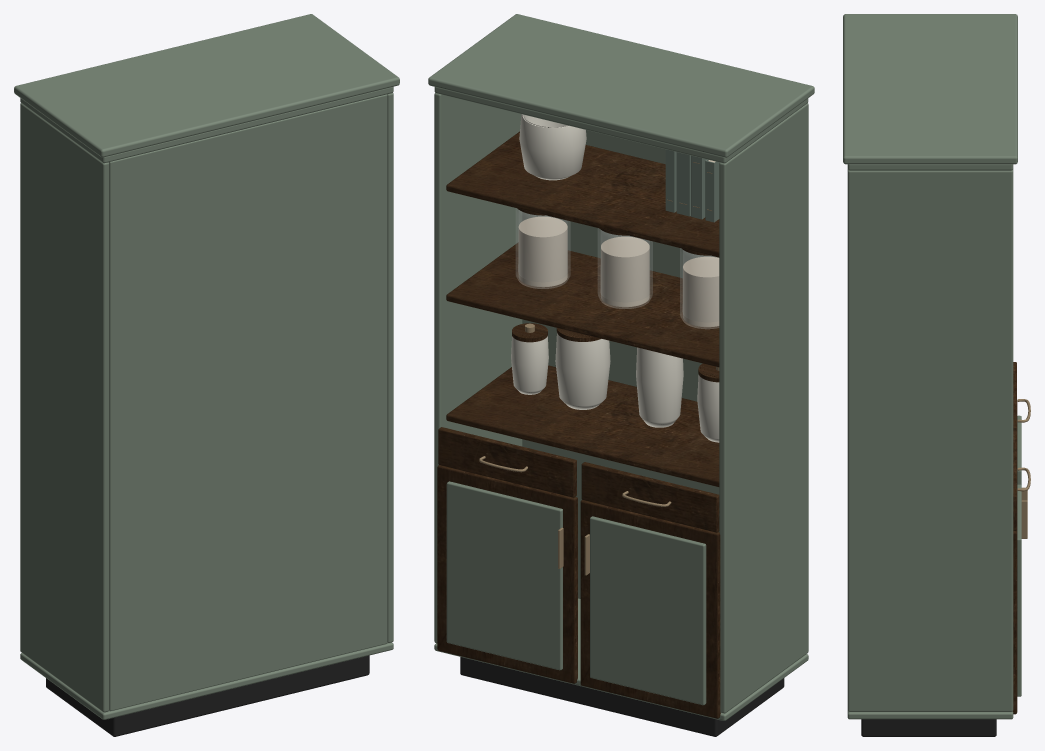
Rendered from crafted-pantry.glb.
3 views of the same model, side by side, from view 1: azimuth 30°, elevation 25°; view 2: azimuth 150°, elevation 25°; view 3: azimuth 270°, elevation 25° (orthographic).
Parts seen in each view (by area): view 1: dark_surfaces; view 2: dark_surfaces, walnut_surfaces, glass_surfaces, binding_surfaces, bronze_surfaces; view 3: dark_surfaces, walnut_surfaces, bronze_surfaces.
Boxes of the visible parts, x1=… form: dark_surfaces: x1=14, y1=14, x2=399, y2=736; dark_surfaces: x1=428, y1=14, x2=814, y2=736; walnut_surfaces: x1=437, y1=131, x2=720, y2=718; glass_surfaces: x1=516, y1=208, x2=718, y2=328; binding_surfaces: x1=665, y1=149, x2=719, y2=222; bronze_surfaces: x1=479, y1=162, x2=719, y2=575; dark_surfaces: x1=843, y1=14, x2=1021, y2=736; walnut_surfaces: x1=1012, y1=362, x2=1017, y2=714; bronze_surfaces: x1=1017, y1=399, x2=1030, y2=538.
Size of the model in its own units: 1.13 by 2.16 by 0.6232.
Materials: 5 (3 with a texture image).
